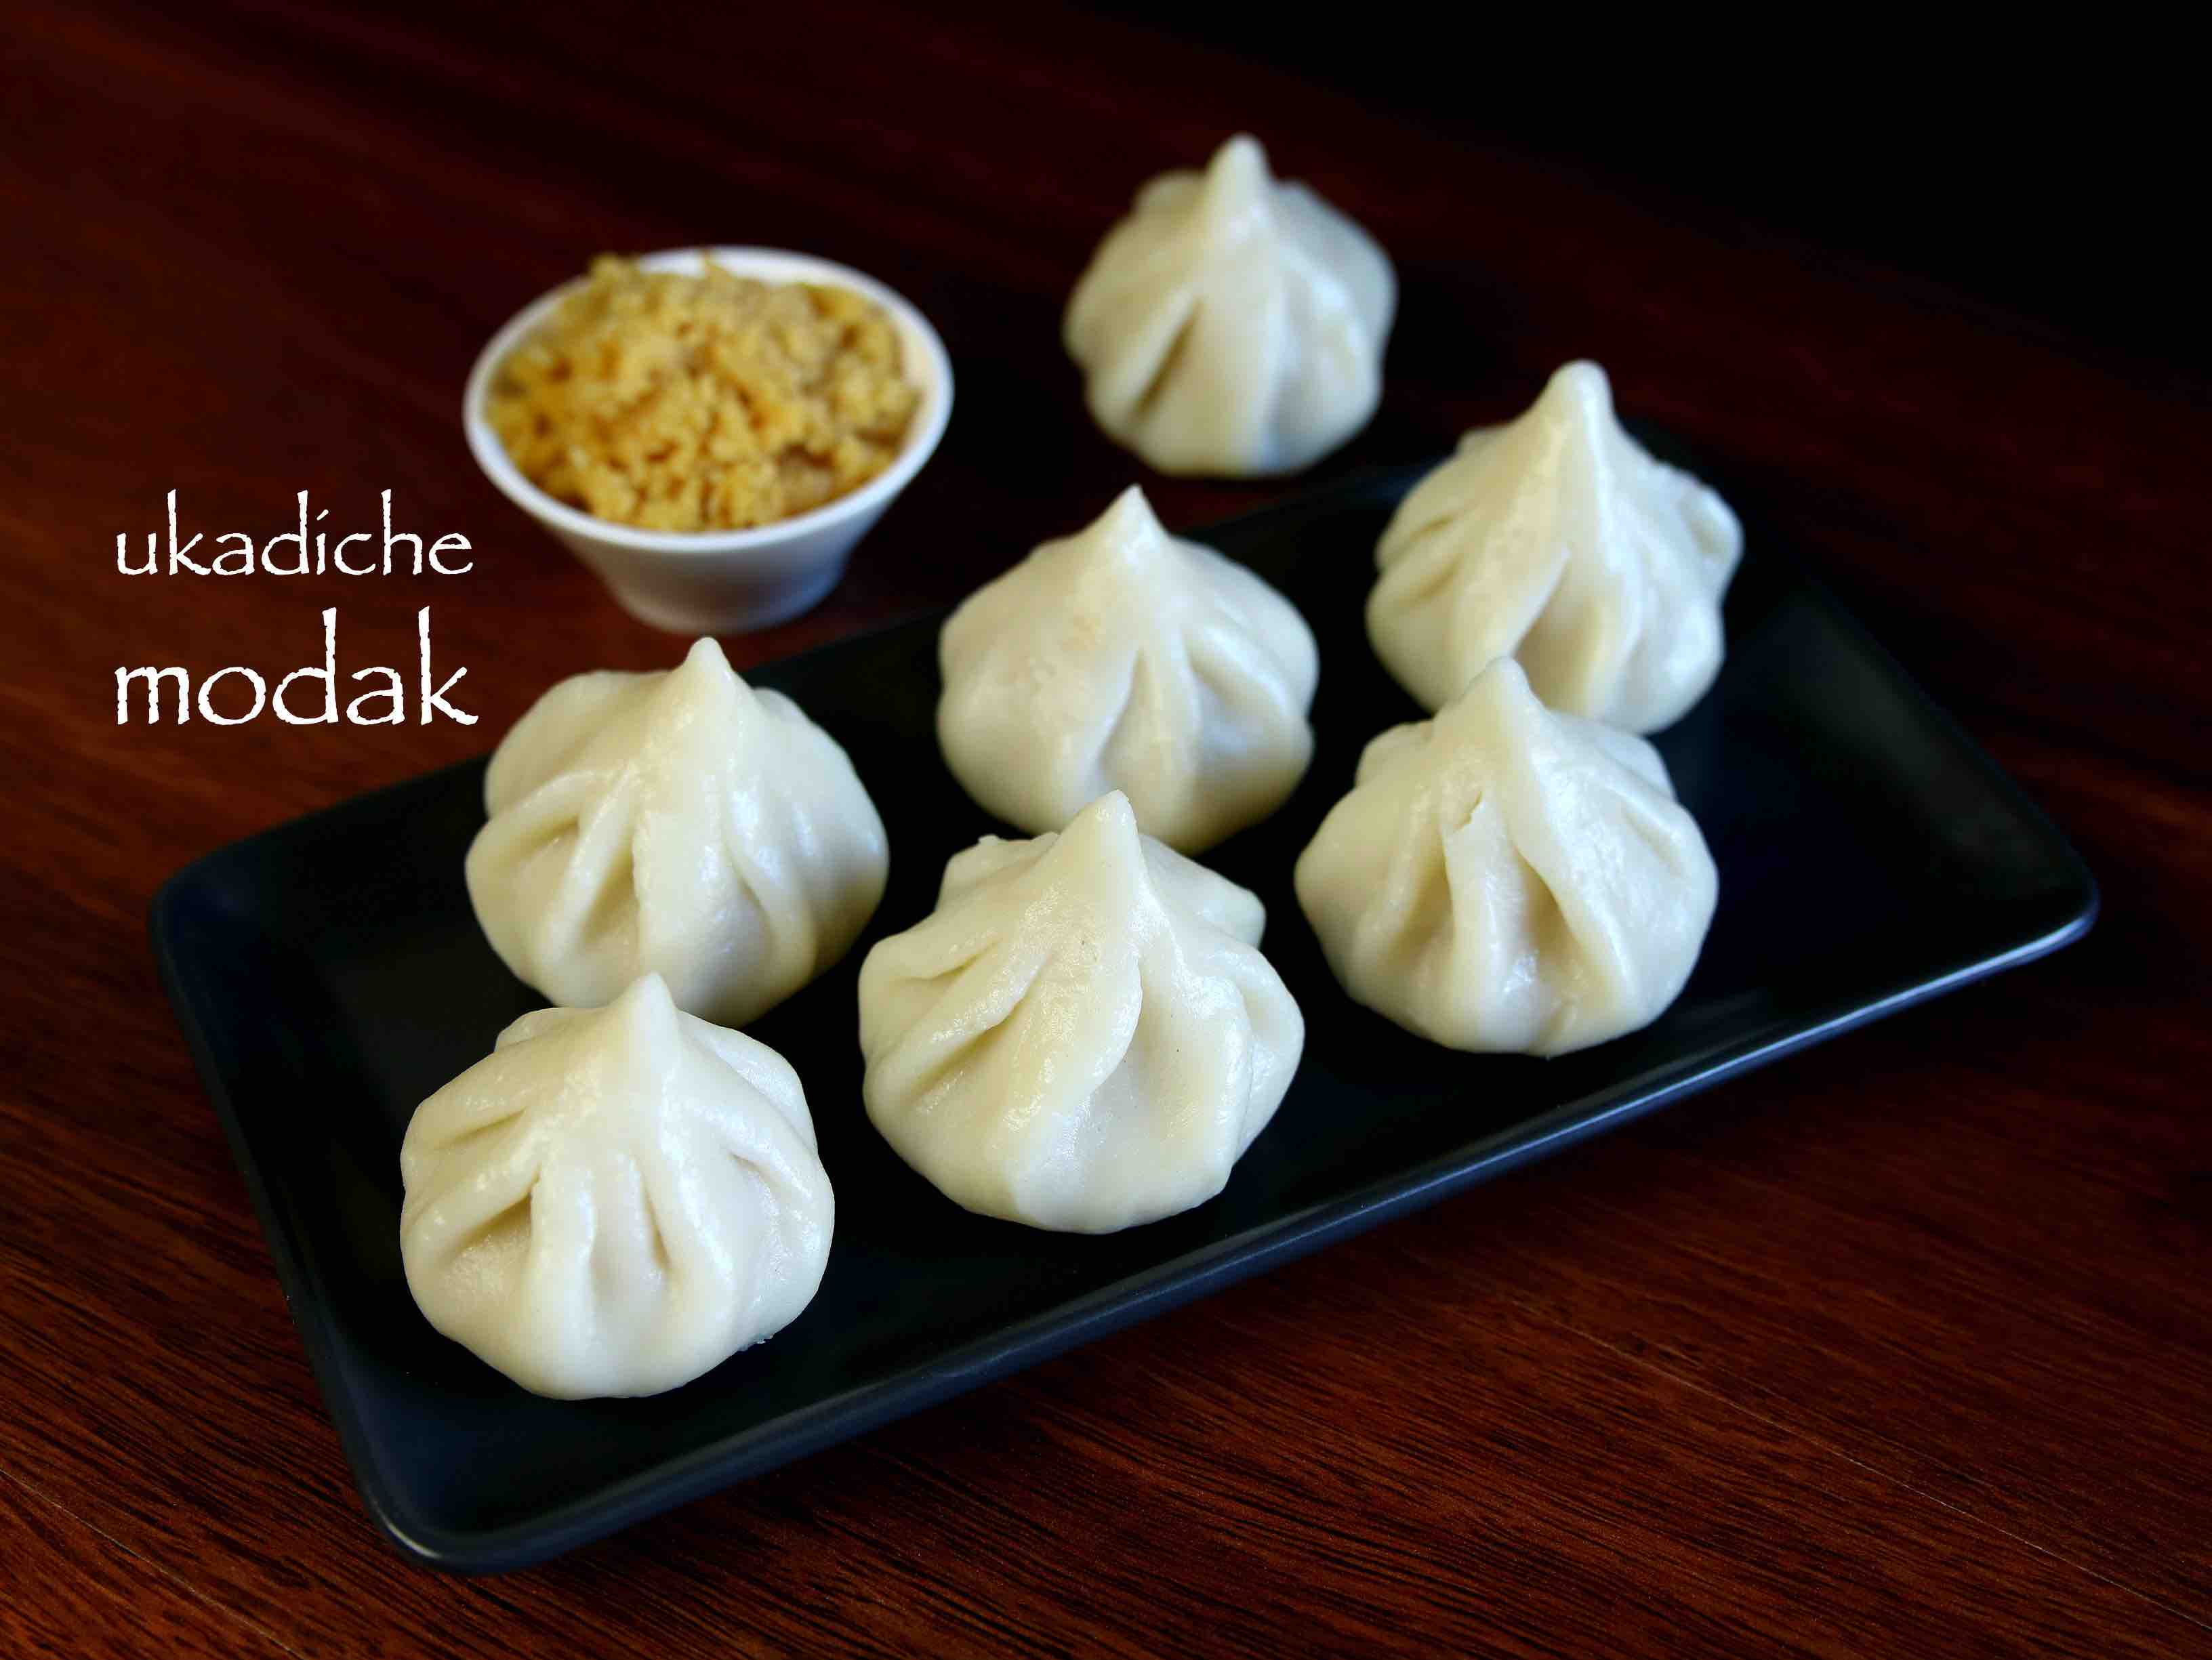modak: (829, 823, 1286, 1221), (389, 1003, 865, 1367), (1357, 368, 1790, 736), (478, 638, 914, 1003), (1305, 671, 1710, 1024), (952, 516, 1366, 832), (1069, 183, 1413, 450)
